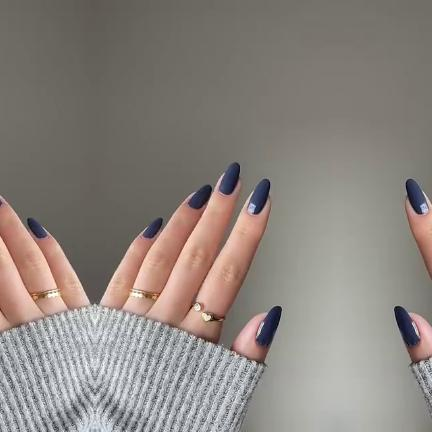Nail: (255, 305, 281, 347), (393, 305, 419, 347), (246, 178, 269, 215), (405, 178, 428, 215), (218, 161, 240, 195), (187, 184, 211, 210), (141, 217, 162, 240), (26, 217, 47, 240)
